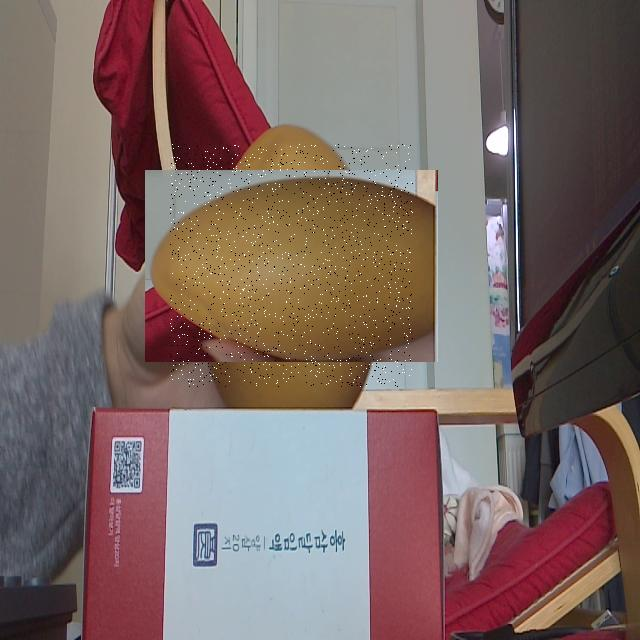pear: (170, 144, 413, 387)
